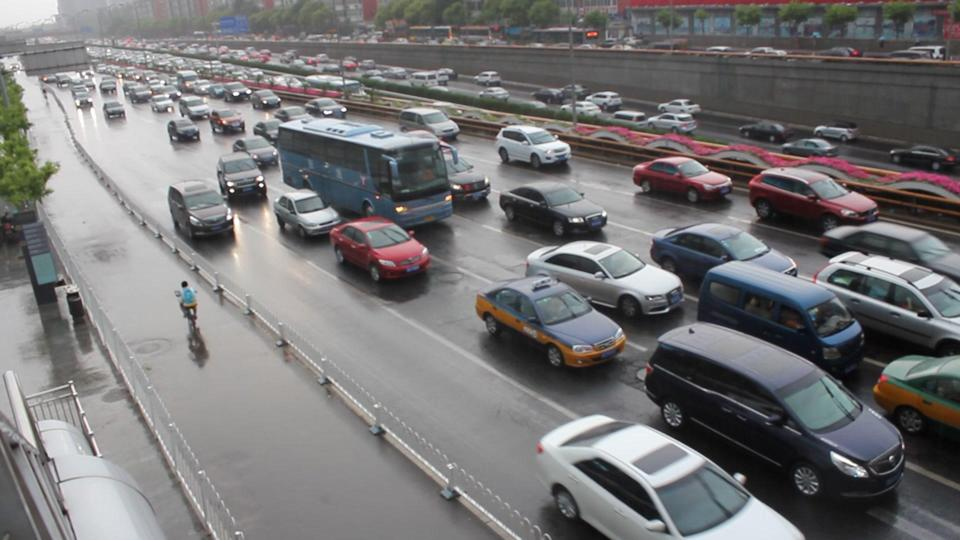Bus: (277, 116, 452, 227)
Car: (534, 412, 803, 540), (809, 249, 960, 357), (476, 275, 624, 367), (525, 238, 684, 319), (648, 221, 795, 288), (819, 221, 960, 290), (746, 164, 875, 234), (870, 351, 960, 441), (328, 214, 429, 279), (497, 177, 605, 234), (629, 154, 731, 204), (415, 150, 492, 203), (271, 189, 343, 240), (493, 123, 571, 169), (215, 151, 267, 201), (233, 132, 280, 167)
Minivan: (646, 321, 902, 499), (696, 259, 858, 373), (167, 179, 236, 240), (395, 106, 460, 144)
